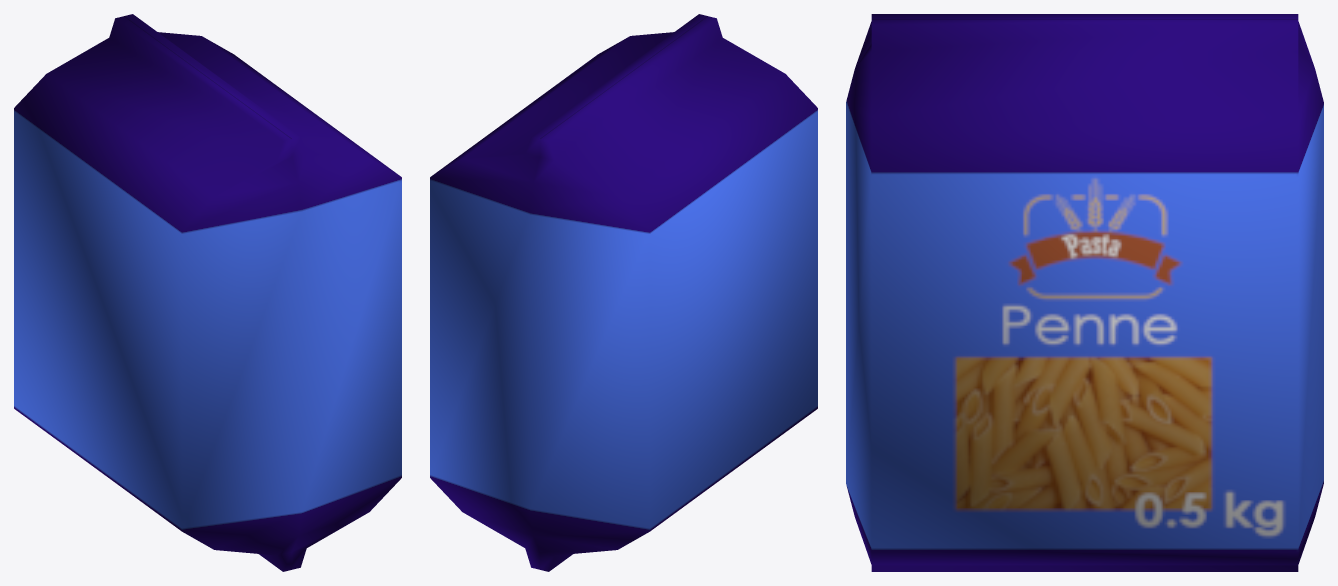
Rendered from pasta_corta_plastica_0,5kg.fbx.
The picture shows the model from 3 angles, left to right: view 1: azimuth 30°, elevation 25°; view 2: azimuth 150°, elevation 25°; view 3: azimuth 270°, elevation 25°; orthographic projection. The views are drawn at different scales.
Parts seen in each view (by area): view 1: pasta_corta_plastica_0.5kg; view 2: pasta_corta_plastica_0.5kg; view 3: pasta_corta_plastica_0.5kg.
Part boxes in pixels (x1=…): pasta_corta_plastica_0.5kg: x1=14, y1=14, x2=401, y2=571; pasta_corta_plastica_0.5kg: x1=430, y1=14, x2=817, y2=571; pasta_corta_plastica_0.5kg: x1=846, y1=14, x2=1323, y2=571.
Size of the model in its own units: 73.23 by 137 by 108.
